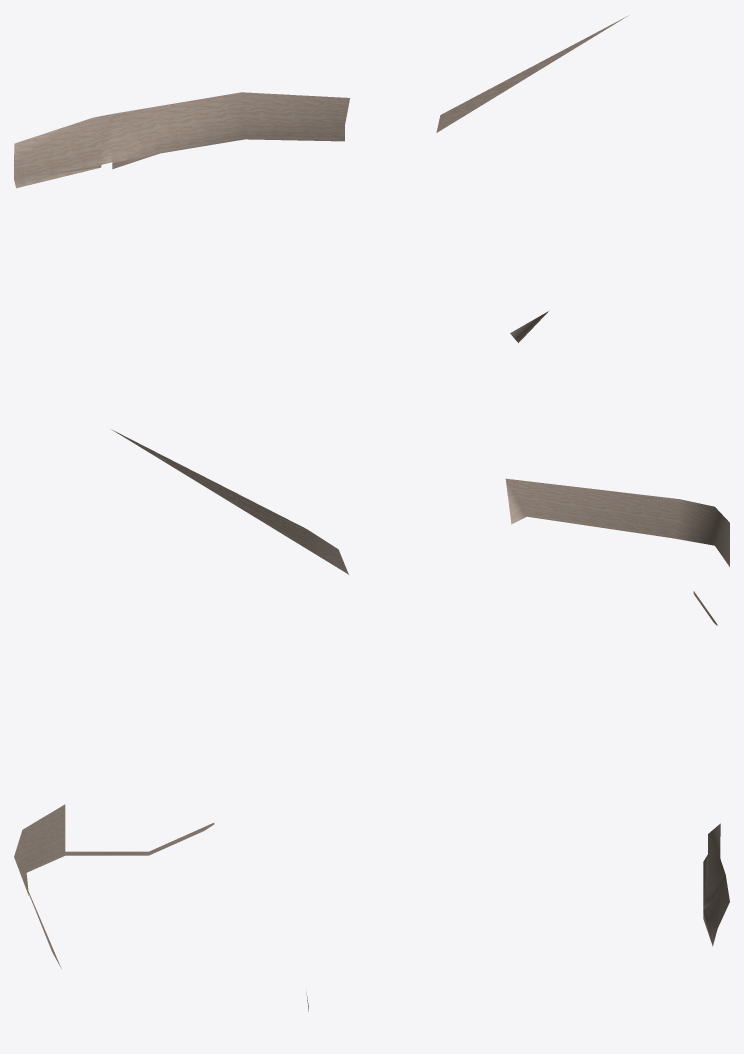
Rendered from kd_stage_135ebf_1_35.glb.
3 views of the same model, one above another, from view 1: azimuth 30°, elevation 25°; view 2: azimuth 150°, elevation 25°; view 3: azimuth 270°, elevation 25° (orthographic). The views are drawn at different scales.
Visible parts, largest first — view 1: kd_stage_135ebf_1_35; view 2: kd_stage_135ebf_1_35; view 3: kd_stage_135ebf_1_35.
Boxes of the visible parts, x1,y1,x2,y2 form: kd_stage_135ebf_1_35: [14, 15, 628, 342]; kd_stage_135ebf_1_35: [111, 429, 729, 625]; kd_stage_135ebf_1_35: [14, 804, 729, 1011].
Bounding box in the file's own units: 68.91 × 11.85 × 65.49.
1 material, 1 textured.
